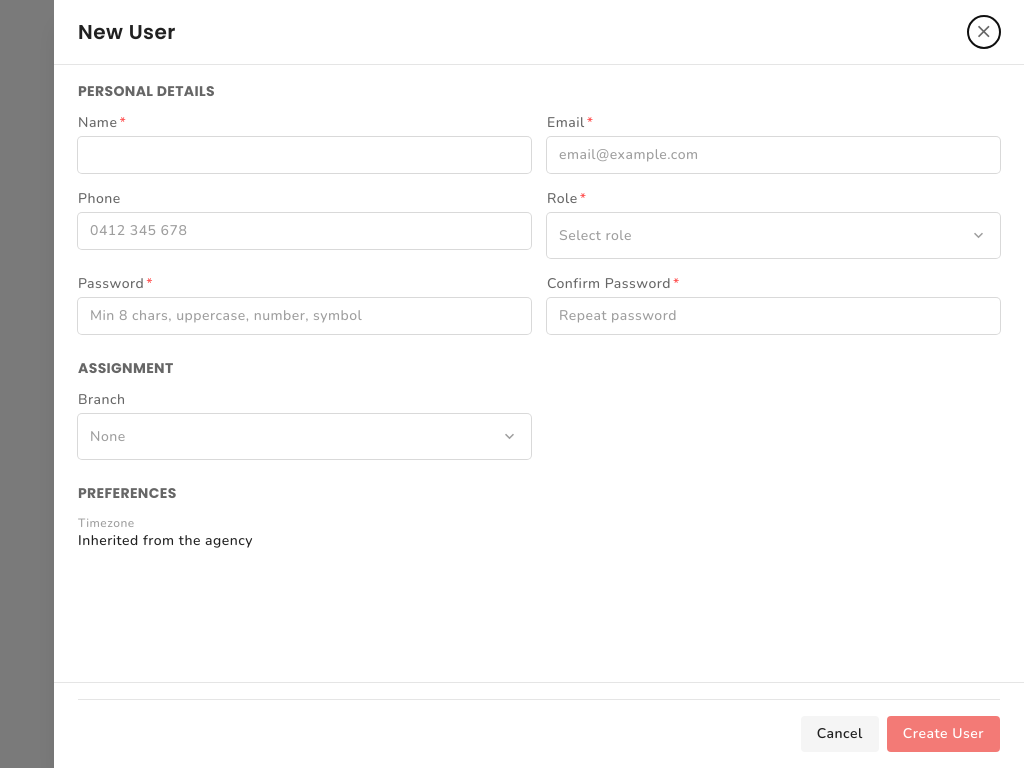
Test: UserFormDrawer › shows an inline AU phone error when an invalid phone is blurred
Step 1. Type "123" into the field named "Phone" → coordinates (304, 231), box top-left (78, 213), bottom-right (531, 249)
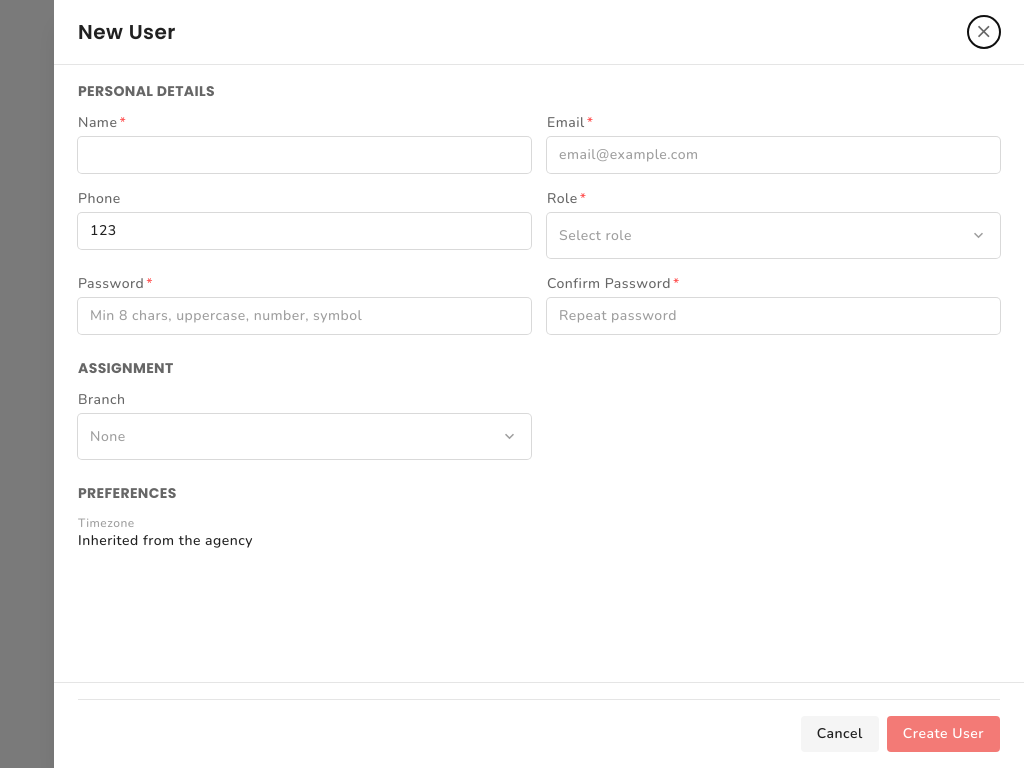
Step 2. Leave the field named "Phone", box top-left (78, 213), bottom-right (531, 249)
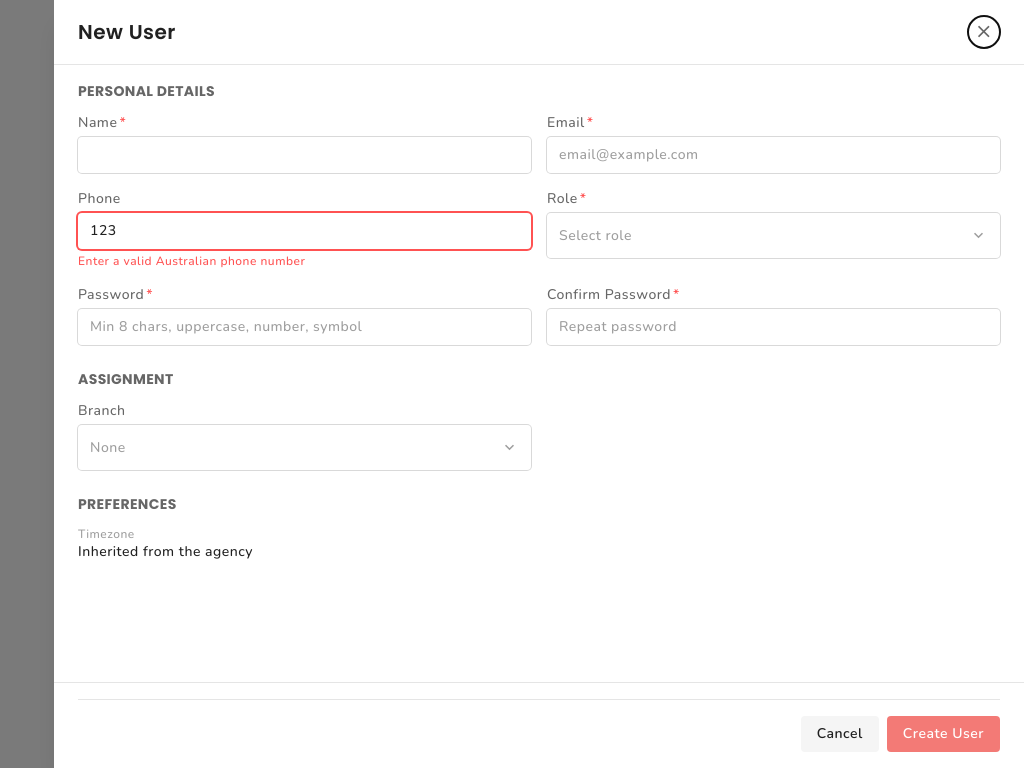
Result: the text "Enter a valid Australian phone number" is shown at top-left (78, 253), bottom-right (305, 269)
